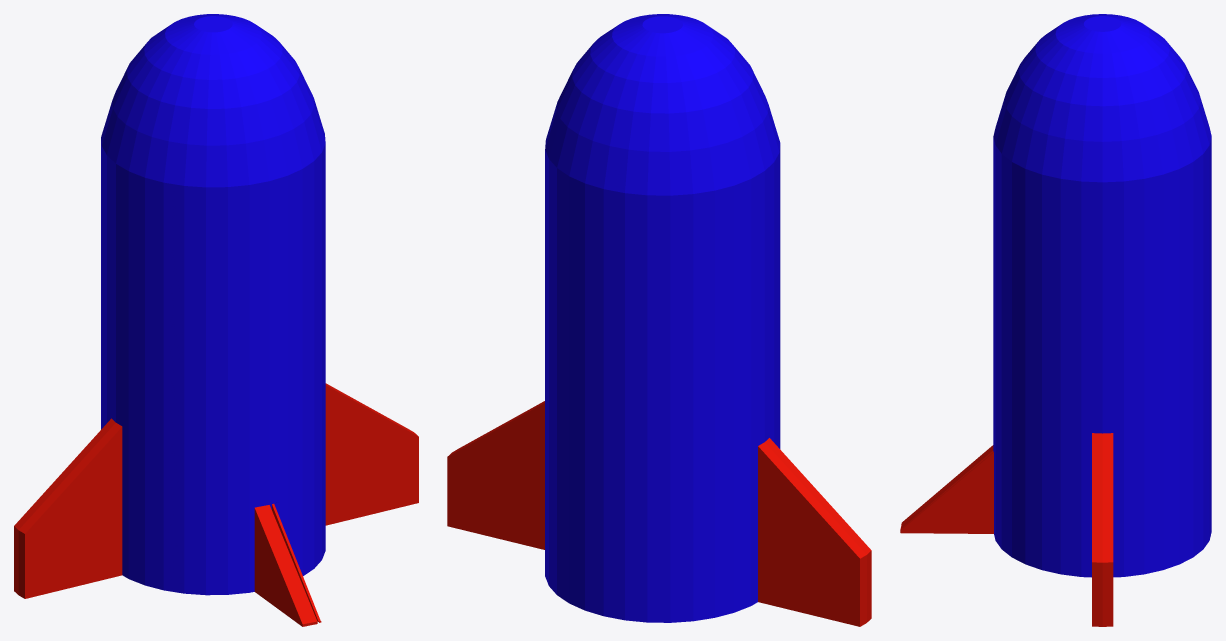
Rendered from airplane.glb.
3 views of the same model, side by side, from view 1: azimuth 30°, elevation 25°; view 2: azimuth 150°, elevation 25°; view 3: azimuth 270°, elevation 25° (orthographic). The views are drawn at different scales.
Parts seen in each view (by area): view 1: Cylinder; view 2: Cylinder; view 3: Cylinder.
Boxes of the visible parts, x1,y1,x2,y2 form: Cylinder: [14, 14, 418, 626]; Cylinder: [447, 14, 871, 626]; Cylinder: [900, 14, 1211, 626].
Size of the model in its own units: 2.03 by 2.57 by 1.43.
